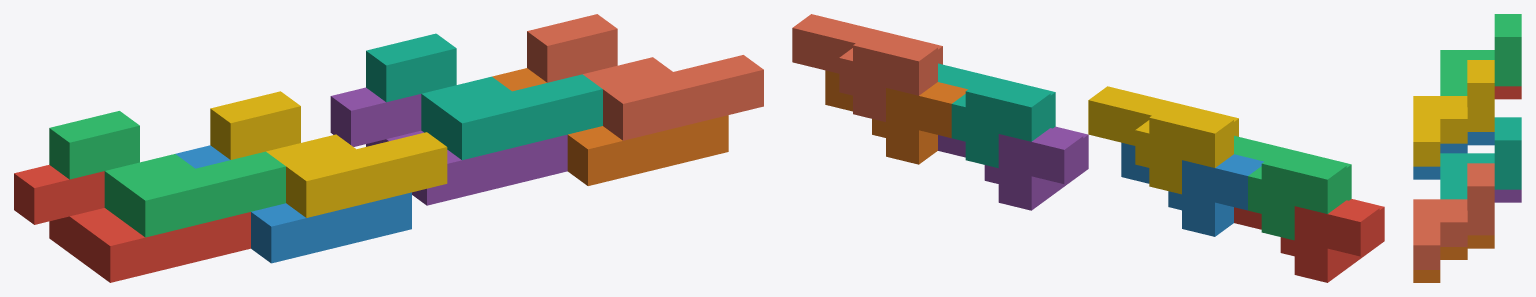
File: tiling.obj
3 views of the same model, side by side, from view 1: azimuth 30°, elevation 25°; view 2: azimuth 150°, elevation 25°; view 3: azimuth 270°, elevation 25° (orthographic). The views are drawn at different scales.
Visible parts, largest first — view 1: copy_1_domain_3, copy_1_domain_7, copy_1_domain_4, copy_1_domain_8, copy_1_domain_1, copy_1_domain_5, copy_1_domain_6, copy_1_domain_2; view 2: copy_1_domain_8, copy_1_domain_4, copy_1_domain_7, copy_1_domain_3, copy_1_domain_1, copy_1_domain_5, copy_1_domain_2, copy_1_domain_6; view 3: copy_1_domain_8, copy_1_domain_4, copy_1_domain_7, copy_1_domain_3, copy_1_domain_6, copy_1_domain_2, copy_1_domain_1, copy_1_domain_5.
Part boxes in pixels (left/top/right/bottom): copy_1_domain_3: left=49, top=111, right=285, bottom=237; copy_1_domain_7: left=366, top=33, right=602, bottom=160; copy_1_domain_4: left=210, top=91, right=447, bottom=217; copy_1_domain_8: left=527, top=14, right=763, bottom=140; copy_1_domain_1: left=14, top=165, right=250, bottom=282; copy_1_domain_5: left=330, top=87, right=567, bottom=205; copy_1_domain_6: left=492, top=68, right=728, bottom=185; copy_1_domain_2: left=175, top=145, right=411, bottom=263; copy_1_domain_8: left=792, top=14, right=942, bottom=121; copy_1_domain_4: left=1088, top=86, right=1238, bottom=194; copy_1_domain_7: left=938, top=63, right=1055, bottom=168; copy_1_domain_3: left=1234, top=135, right=1351, bottom=240; copy_1_domain_1: left=1234, top=199, right=1384, bottom=282; copy_1_domain_5: left=938, top=126, right=1088, bottom=210; copy_1_domain_2: left=1121, top=142, right=1263, bottom=236; copy_1_domain_6: left=825, top=70, right=967, bottom=164; copy_1_domain_8: left=1413, top=163, right=1494, bottom=269; copy_1_domain_4: left=1413, top=60, right=1494, bottom=166; copy_1_domain_7: left=1440, top=117, right=1521, bottom=199; copy_1_domain_3: left=1440, top=14, right=1521, bottom=95; copy_1_domain_6: left=1413, top=235, right=1494, bottom=282; copy_1_domain_2: left=1413, top=132, right=1494, bottom=179; copy_1_domain_1: left=1494, top=86, right=1521, bottom=99; copy_1_domain_5: left=1494, top=189, right=1521, bottom=202.
Size of the model in its own units: 19 by 3 by 4.
